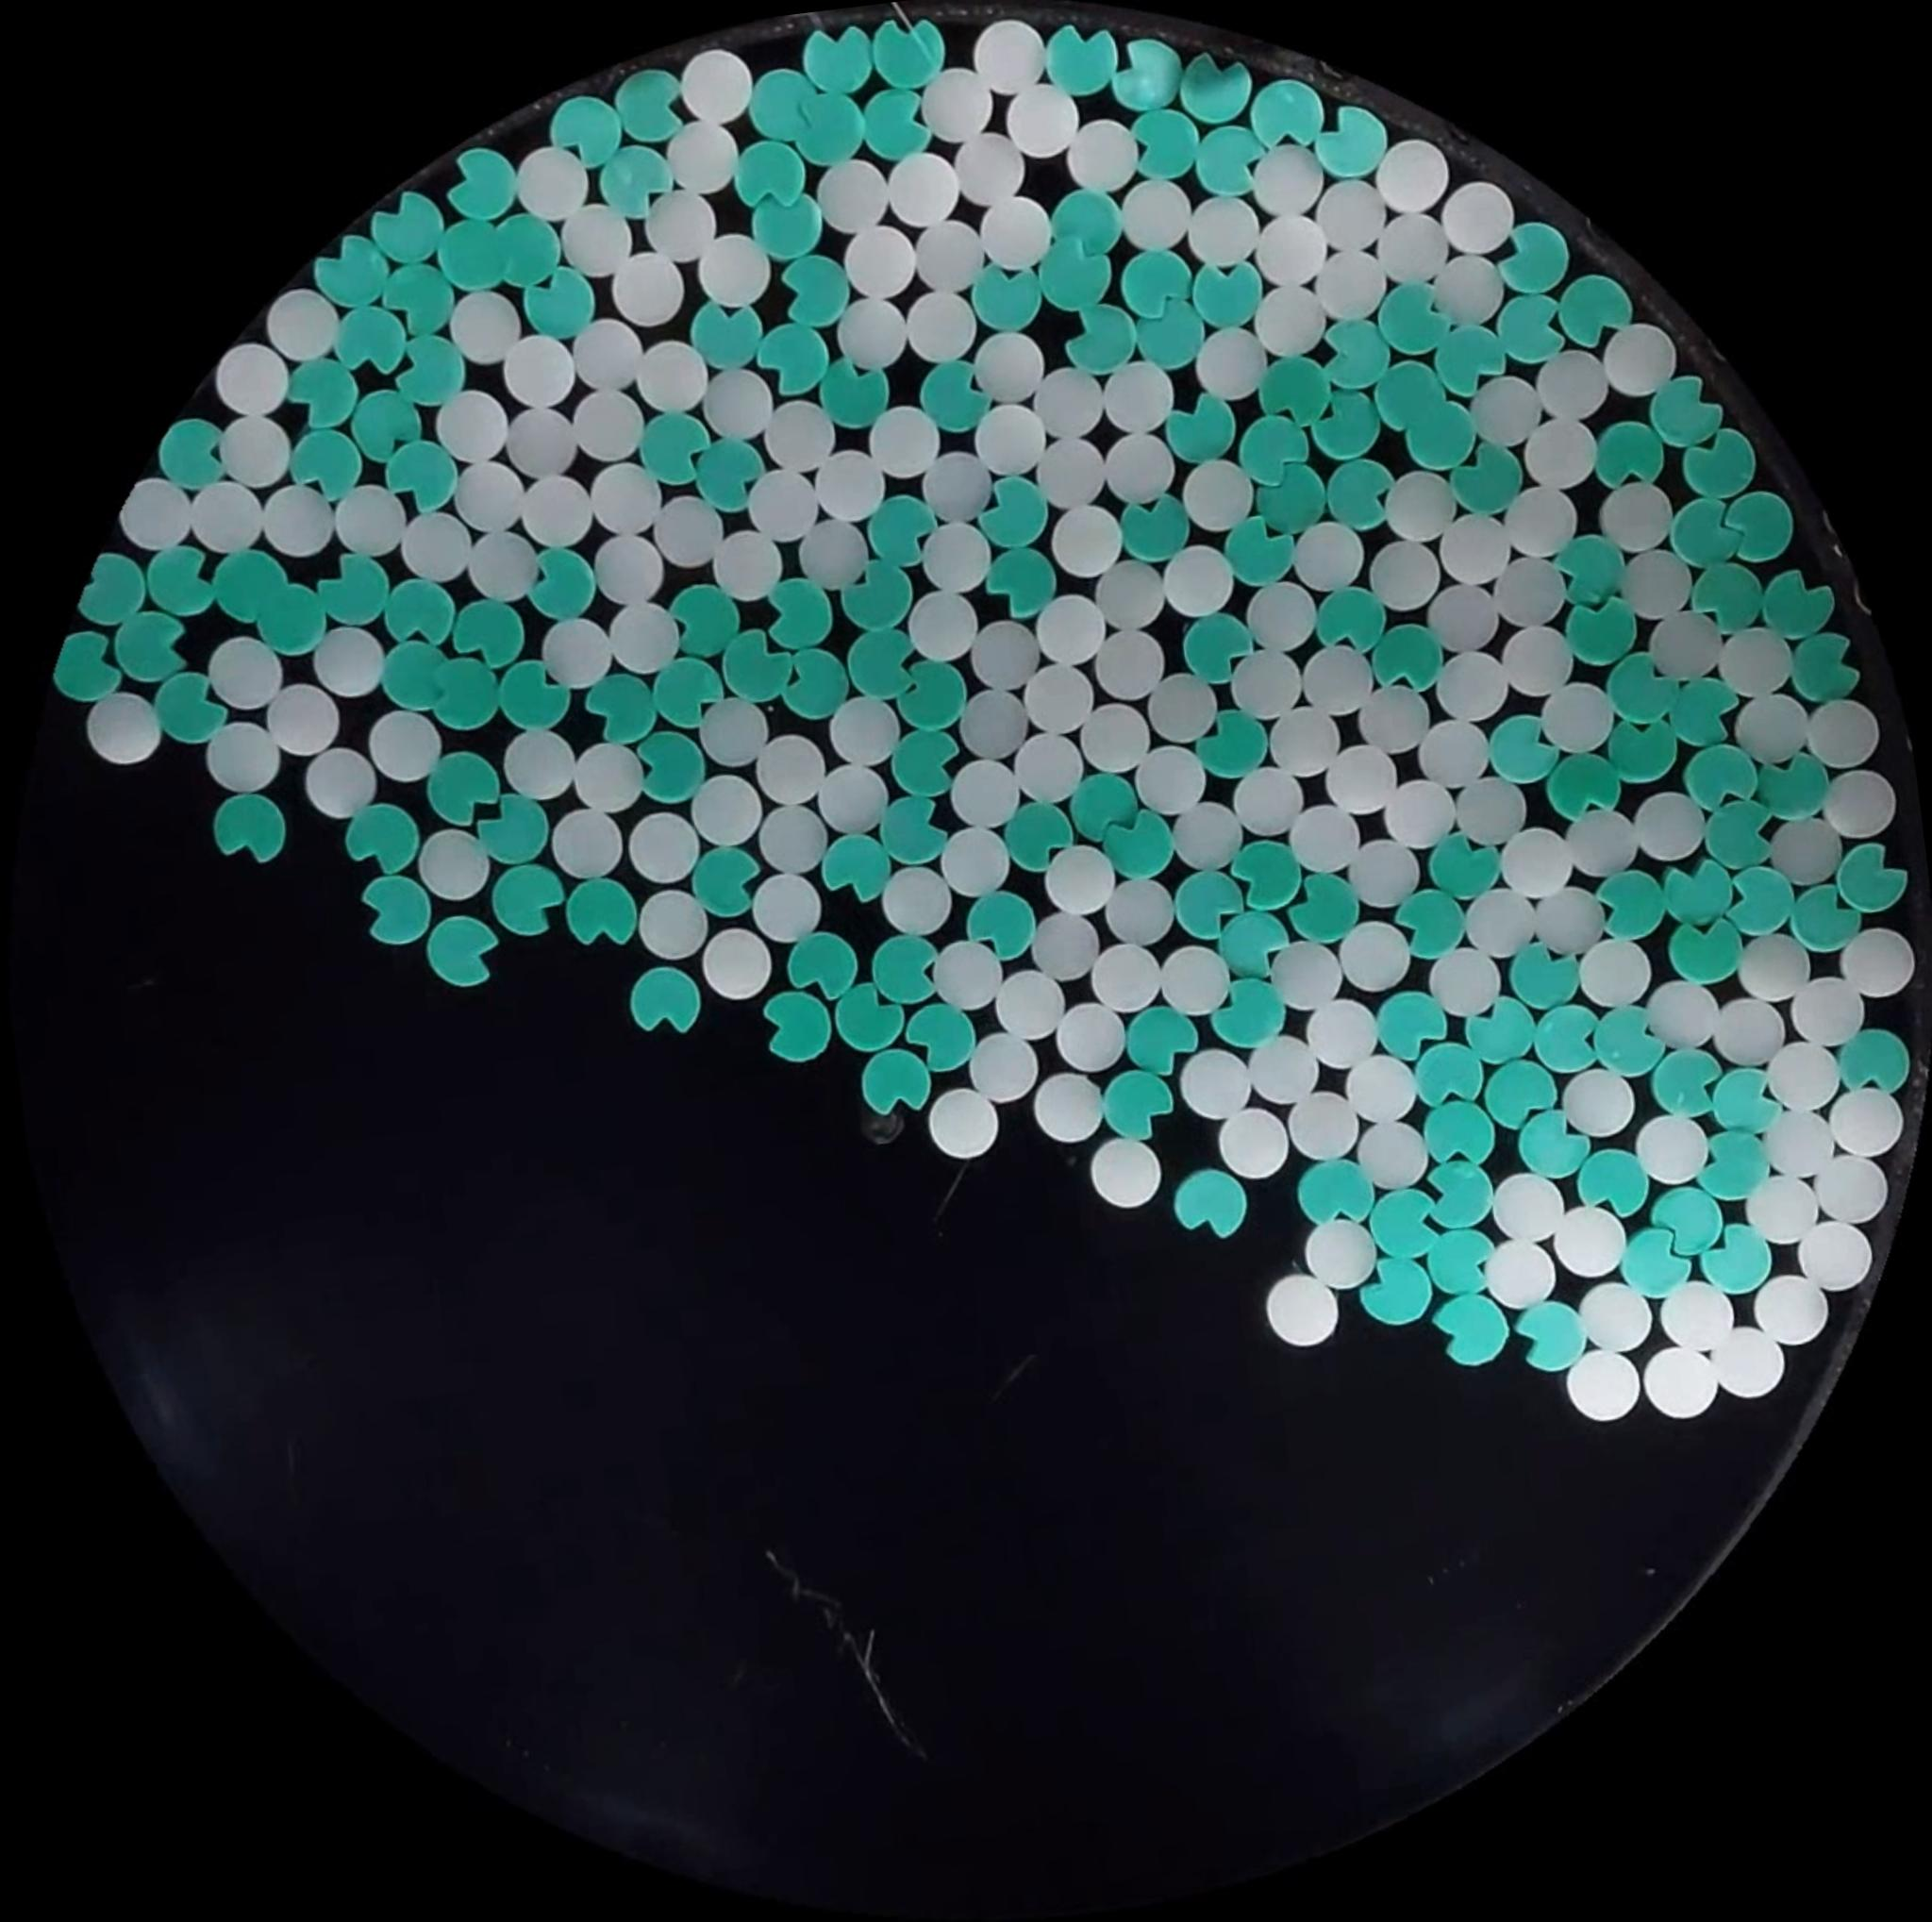disco-pmma: (1554, 796, 1649, 885), (683, 767, 772, 861), (1121, 737, 1216, 825), (1248, 206, 1336, 296), (1281, 516, 1376, 598), (567, 732, 656, 818), (1244, 280, 1336, 364), (910, 444, 1003, 526), (604, 246, 692, 333), (1371, 134, 1459, 220), (1434, 176, 1522, 262), (201, 715, 289, 801), (493, 331, 581, 417), (79, 686, 167, 773), (1221, 762, 1314, 843), (326, 480, 419, 561), (185, 475, 271, 561), (1086, 356, 1177, 436), (1309, 176, 1395, 260), (1489, 547, 1573, 634), (880, 150, 966, 234), (1598, 317, 1684, 401), (1432, 509, 1519, 593), (211, 410, 297, 495), (1239, 1030, 1325, 1114), (899, 283, 984, 370), (692, 359, 778, 444), (1782, 970, 1870, 1053), (209, 340, 297, 422), (904, 213, 992, 296), (1262, 702, 1351, 783), (1001, 77, 1086, 162), (1517, 414, 1601, 498), (510, 143, 595, 227), (1043, 498, 1128, 583), (114, 473, 199, 558), (1281, 799, 1365, 884), (204, 632, 289, 716), (262, 679, 347, 764), (968, 16, 1052, 100), (1297, 642, 1381, 727), (514, 473, 598, 558), (558, 199, 642, 283), (257, 479, 340, 565), (1497, 482, 1584, 565), (1496, 822, 1582, 905), (361, 706, 447, 789), (1240, 574, 1323, 660), (621, 804, 704, 891), (549, 803, 635, 885), (787, 512, 875, 593), (1761, 1035, 1846, 1118), (431, 385, 516, 468), (1181, 192, 1265, 275), (1061, 116, 1145, 199), (1177, 454, 1262, 537), (1321, 739, 1406, 822), (1467, 370, 1552, 452), (1731, 688, 1816, 771), (660, 113, 743, 197), (1800, 692, 1884, 774), (1028, 903, 1110, 987), (586, 461, 670, 544), (493, 401, 575, 486), (1246, 143, 1332, 224), (1823, 1081, 1909, 1162), (1640, 975, 1726, 1056), (1835, 922, 1921, 1003), (1807, 1149, 1893, 1230), (535, 605, 616, 692), (588, 533, 674, 614), (1307, 245, 1395, 324), (970, 401, 1052, 484), (1228, 641, 1311, 723), (1191, 324, 1274, 407), (1117, 176, 1200, 259), (445, 285, 528, 368), (1496, 621, 1578, 704), (1615, 544, 1698, 627), (1818, 764, 1900, 847), (1751, 1267, 1833, 1350), (635, 187, 718, 269), (1156, 542, 1240, 623), (1629, 1109, 1714, 1190), (1547, 1202, 1631, 1283), (1628, 787, 1712, 868), (1758, 1104, 1842, 1185), (1765, 810, 1849, 891), (1487, 1169, 1571, 1250), (1793, 1214, 1877, 1295), (1707, 993, 1791, 1074), (753, 394, 838, 475), (466, 521, 547, 605), (966, 1030, 1045, 1116), (811, 155, 897, 234), (602, 597, 688, 676), (1450, 776, 1538, 854), (290, 743, 378, 820), (945, 134, 1035, 209), (1029, 590, 1112, 671), (1533, 347, 1615, 428), (1364, 535, 1445, 618), (1302, 994, 1385, 1075), (1705, 1322, 1788, 1403), (1575, 1278, 1658, 1359), (1575, 933, 1658, 1014), (1656, 1276, 1738, 1357), (1378, 466, 1460, 547), (1561, 1346, 1643, 1427), (1260, 1271, 1343, 1352), (262, 285, 345, 366), (677, 48, 758, 130), (1425, 574, 1506, 657), (862, 401, 945, 482), (802, 442, 883, 525), (1731, 929, 1816, 1009), (1526, 882, 1610, 961), (748, 799, 834, 877), (503, 722, 579, 810), (989, 966, 1070, 1047), (1177, 1045, 1258, 1126), (1744, 1169, 1825, 1250), (968, 327, 1050, 407), (1379, 774, 1462, 854), (1413, 716, 1496, 796), (1350, 1114, 1432, 1193), (1299, 1214, 1381, 1294), (1211, 1105, 1293, 1185), (1640, 1343, 1723, 1422), (310, 623, 392, 702), (906, 588, 989, 667), (1028, 433, 1110, 512), (971, 194, 1054, 273), (1714, 625, 1798, 702), (1427, 648, 1511, 725), (1086, 940, 1167, 1019), (1427, 942, 1506, 1023), (918, 67, 999, 146), (1267, 936, 1348, 1016), (413, 827, 494, 906), (832, 294, 911, 375), (632, 336, 711, 417), (1557, 1065, 1640, 1142), (1330, 919, 1413, 996), (1592, 477, 1677, 553), (394, 510, 479, 586), (818, 692, 904, 766), (633, 885, 713, 965), (924, 1084, 1003, 1163), (699, 926, 778, 1005), (1284, 1089, 1365, 1167), (1480, 1234, 1561, 1311), (1042, 843, 1123, 921), (917, 514, 994, 595), (1378, 211, 1460, 287), (1098, 431, 1181, 507), (1015, 660, 1100, 734), (964, 618, 1049, 692), (746, 871, 831, 945), (1075, 701, 1154, 778), (1029, 1070, 1109, 1148), (1052, 1000, 1131, 1077), (1086, 1135, 1165, 1213), (744, 466, 822, 546), (567, 385, 644, 465), (450, 456, 528, 535), (1154, 943, 1235, 1019), (1008, 732, 1089, 808), (952, 685, 1033, 760), (1344, 1051, 1427, 1125), (1165, 799, 1248, 873), (845, 225, 927, 299), (695, 232, 772, 310), (1100, 873, 1179, 949), (750, 730, 829, 806), (1460, 887, 1541, 961), (1093, 627, 1174, 701), (933, 940, 1010, 1016), (878, 862, 955, 938), (945, 755, 1021, 833), (651, 493, 727, 570), (1647, 605, 1726, 679), (1346, 836, 1420, 915), (936, 827, 1017, 899), (1089, 558, 1165, 634), (1431, 252, 1506, 327), (1538, 678, 1615, 752), (811, 764, 889, 838), (707, 532, 785, 605), (1147, 674, 1225, 746), (1033, 366, 1105, 444), (570, 324, 648, 394), (1358, 683, 1432, 755), (697, 697, 774, 762)
